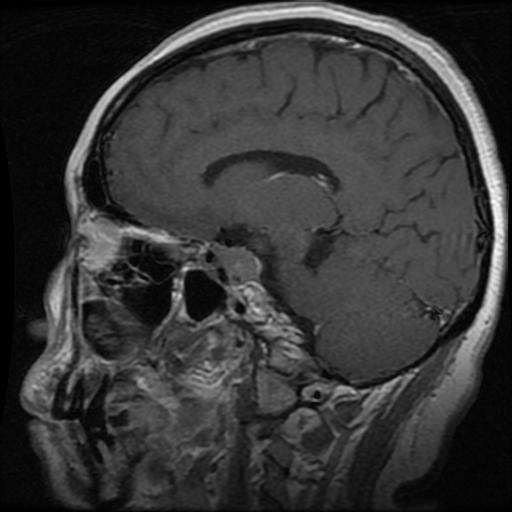Pituirity_tumour: (207, 242, 260, 285)
